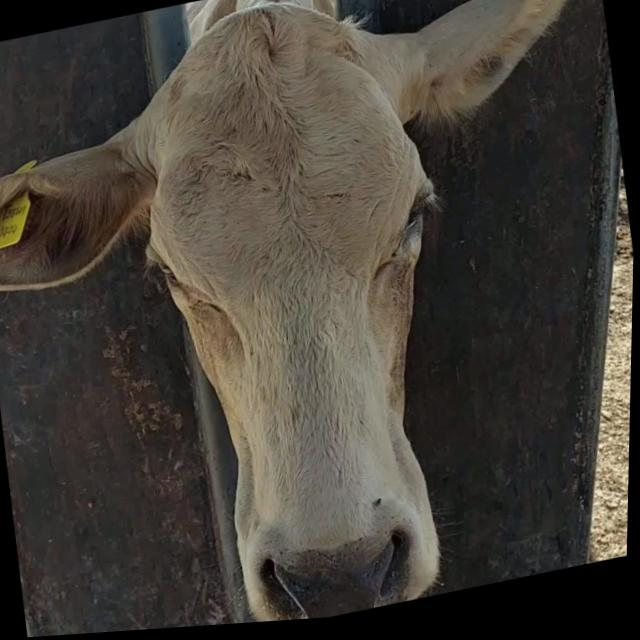cowFace: (115, 0, 490, 633)
